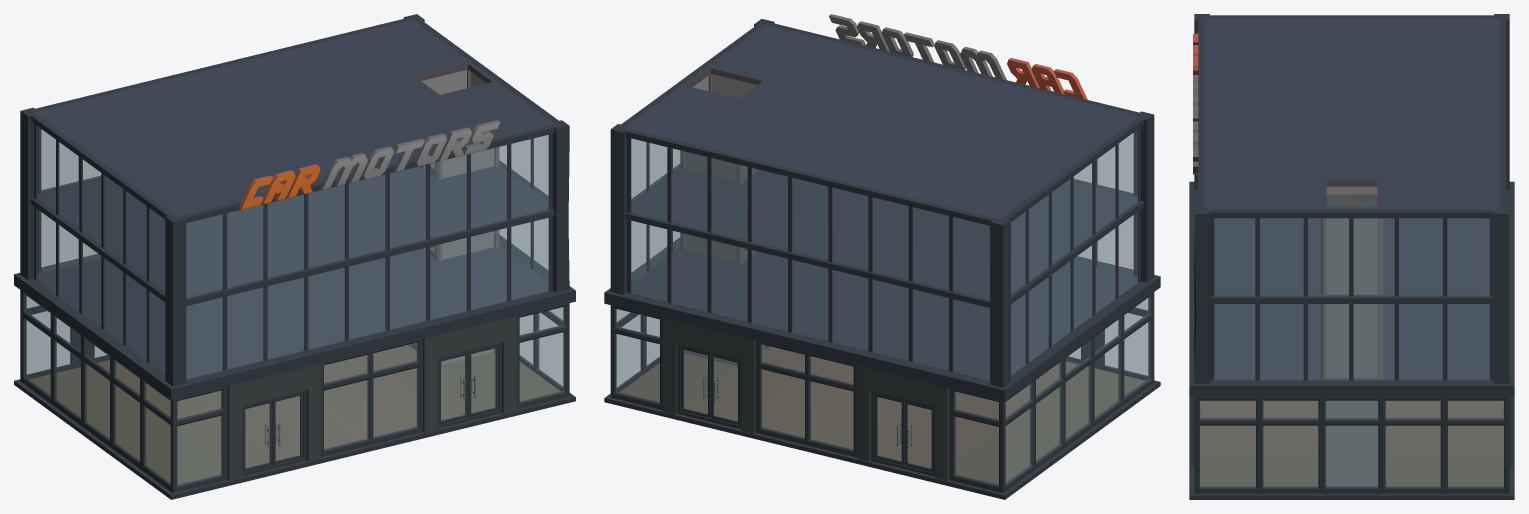
File: Showroom.fbx
3 views of the same model, side by side, from view 1: azimuth 30°, elevation 25°; view 2: azimuth 150°, elevation 25°; view 3: azimuth 270°, elevation 25° (orthographic). The views are drawn at different scales.
Parts seen in each view (by area): view 1: Showroom; view 2: Showroom; view 3: Showroom.
Part boxes in pixels (<box>): Showroom: <box>14,14,575,499</box>; Showroom: <box>604,14,1160,499</box>; Showroom: <box>1189,14,1514,499</box>.
Bounding box in the file's own units: 1530 × 1070 × 1030.
